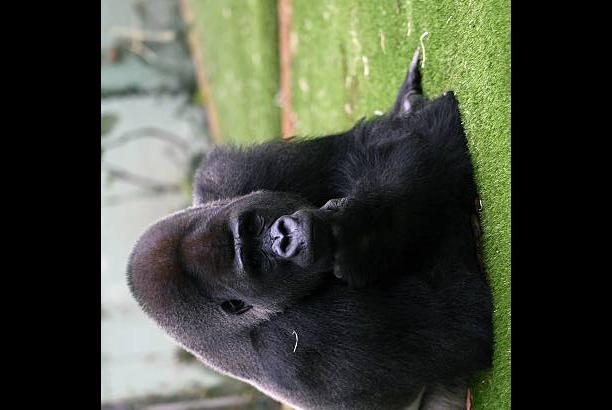gorille_Autres: (110, 30, 496, 410)
